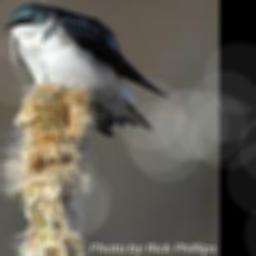Swallow: (0, 2, 169, 136)
